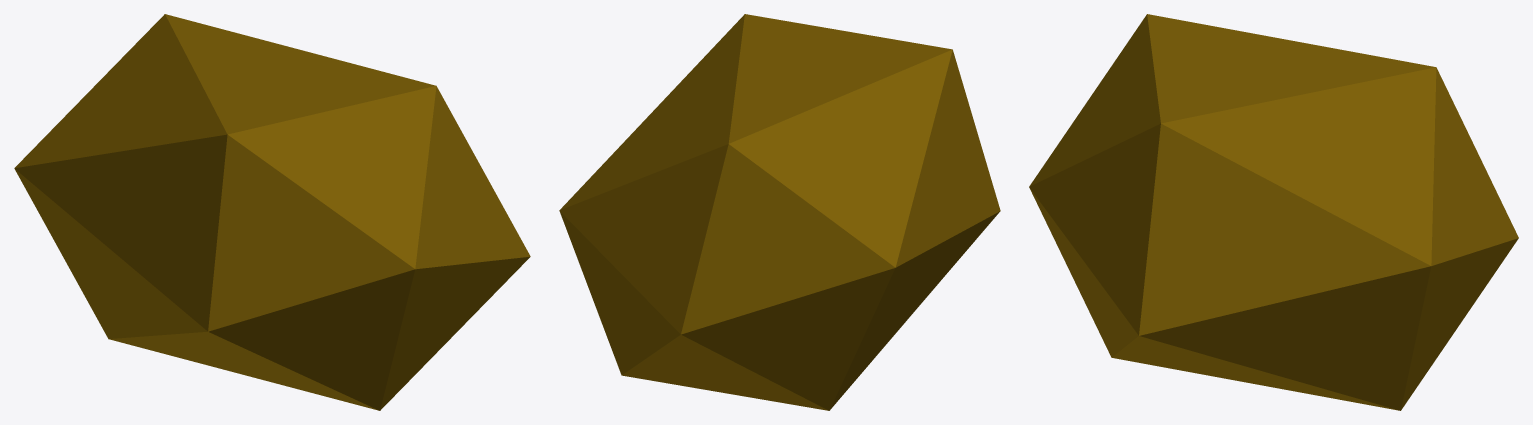
Rendered from Rock.fbx.
3 renders of one model, left to right at view 1: azimuth 30°, elevation 25°; view 2: azimuth 150°, elevation 25°; view 3: azimuth 270°, elevation 25°, orthographic. The views are drawn at different scales.
Parts seen in each view (by area): view 1: Rock; view 2: Rock; view 3: Rock.
Part boxes in pixels (x1,y1,x2,y2): Rock: (14, 14, 530, 410); Rock: (559, 14, 1000, 410); Rock: (1029, 14, 1518, 410).
Bounding box in the file's own units: 2.21 × 1.73 × 2.62.
